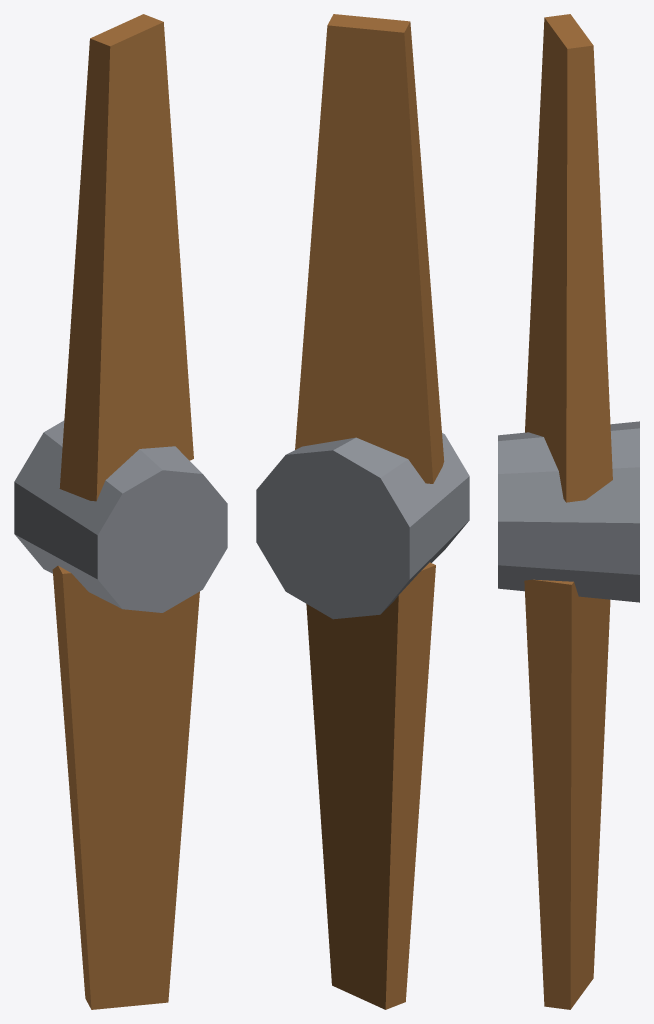
The model's file is propeller.glb.
The picture shows the model from 3 angles, left to right: view 1: azimuth 30°, elevation 25°; view 2: azimuth 150°, elevation 25°; view 3: azimuth 270°, elevation 25°; orthographic projection.
Parts seen in each view (by area): view 1: prop_blade_1, prop_blade_0, prop_hub; view 2: prop_blade_0, prop_blade_1, prop_hub; view 3: prop_blade_0, prop_blade_1, prop_hub.
Part boxes in pixels (x1,y1,x2,y2): prop_blade_1: (52,565,199,1009); prop_blade_0: (59,14,193,501); prop_hub: (14,420,227,612); prop_blade_0: (295,14,444,483); prop_blade_1: (306,562,435,1009); prop_hub: (256,433,469,619); prop_blade_0: (525,14,612,502); prop_blade_1: (524,579,610,1009); prop_hub: (498,421,639,602).
Bounding box in the file's own units: 0.2473 × 1.49 × 0.2.
